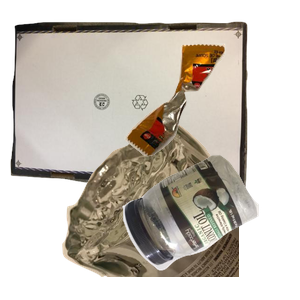cardboard: (10, 19, 250, 199)
glass: (60, 120, 300, 300)
plastic: (120, 152, 300, 300)
trash: (122, 41, 300, 190)
